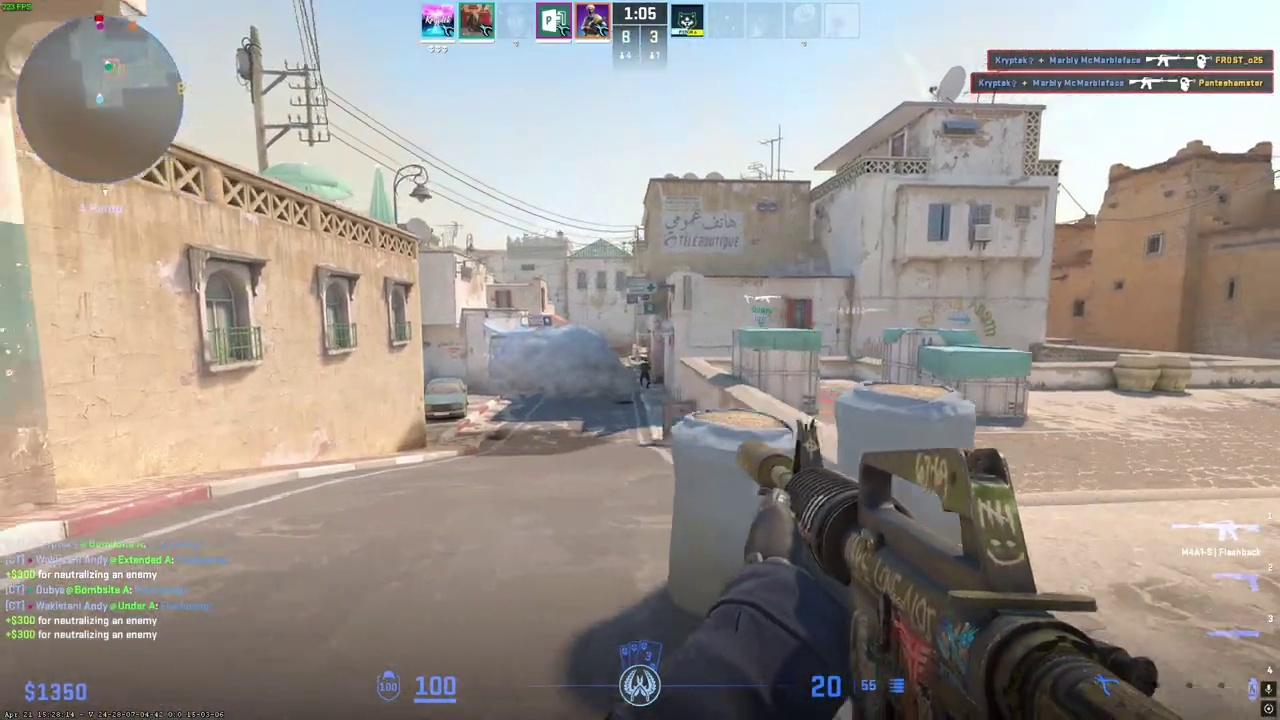CT: (639, 359, 651, 389)
